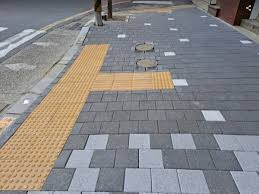block(line type): (96, 73, 153, 90)
block(point type): (9, 139, 48, 186), (33, 101, 74, 134), (61, 73, 90, 99), (80, 44, 103, 68), (154, 72, 172, 89)
